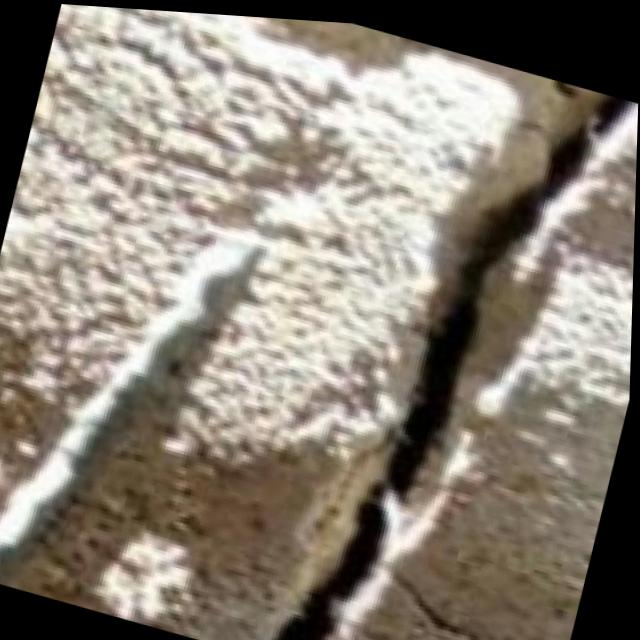Crack: (211, 13, 640, 640)
